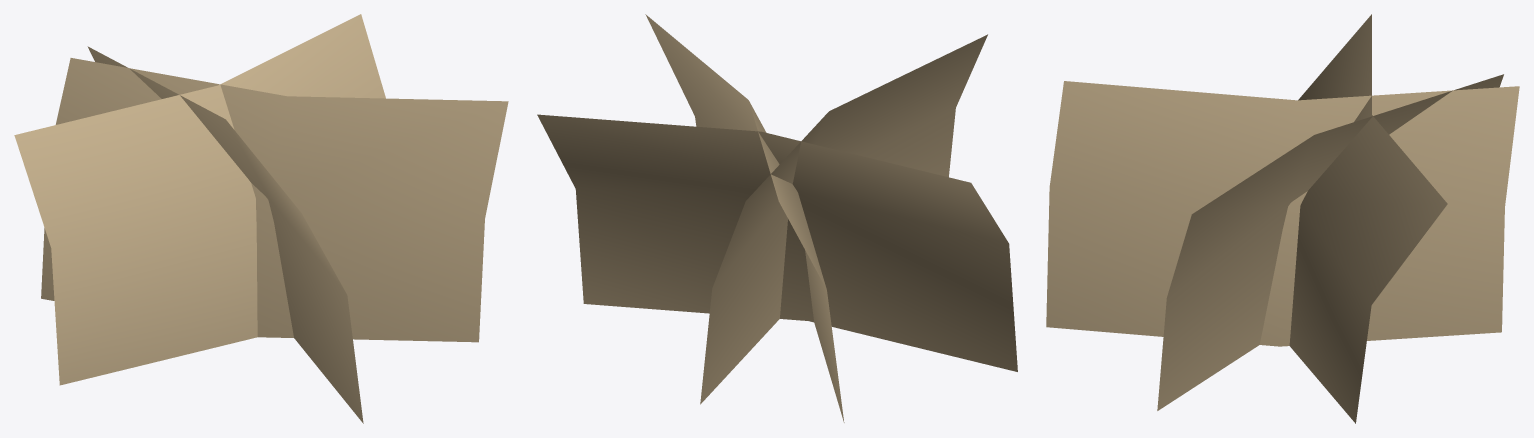
The model's file is GrassPlanes_b_TwoS_08.fbx.
The picture shows the model from 3 angles, left to right: view 1: azimuth 30°, elevation 25°; view 2: azimuth 150°, elevation 25°; view 3: azimuth 270°, elevation 25°; orthographic projection. The views are drawn at different scales.
Visible parts, largest first — view 1: GrassPlanes_b_TwoS_08; view 2: GrassPlanes_b_TwoS_08; view 3: GrassPlanes_b_TwoS_08.
Boxes of the visible parts, left/top/right/bottom form: GrassPlanes_b_TwoS_08: left=14, top=14, right=508, bottom=423; GrassPlanes_b_TwoS_08: left=537, top=14, right=1017, bottom=422; GrassPlanes_b_TwoS_08: left=1046, top=14, right=1519, bottom=423.
Size of the model in its own units: 121 by 61.69 by 120.
